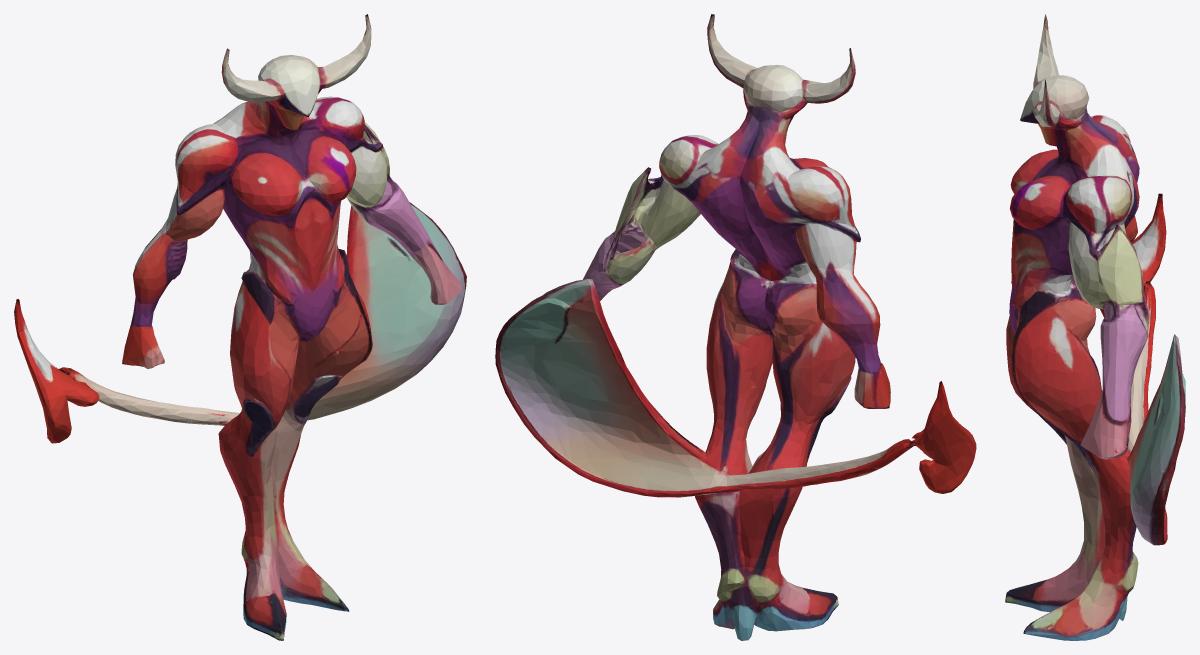
The model's file is demon_red.glb.
3 renders of one model, left to right at view 1: azimuth 30°, elevation 25°; view 2: azimuth 150°, elevation 25°; view 3: azimuth 270°, elevation 25°, orthographic. The views are drawn at different scales.
Parts seen in each view (by area): view 1: geometry_0; view 2: geometry_0; view 3: geometry_0.
Part boxes in pixels (x1=…): geometry_0: x1=14, y1=14, x2=466, y2=640; geometry_0: x1=495, y1=14, x2=976, y2=640; geometry_0: x1=1005, y1=14, x2=1185, y2=640.
Size of the model in its own units: 1.78 by 2.2 by 0.6296.
Materials: 1 (1 with a texture image).
